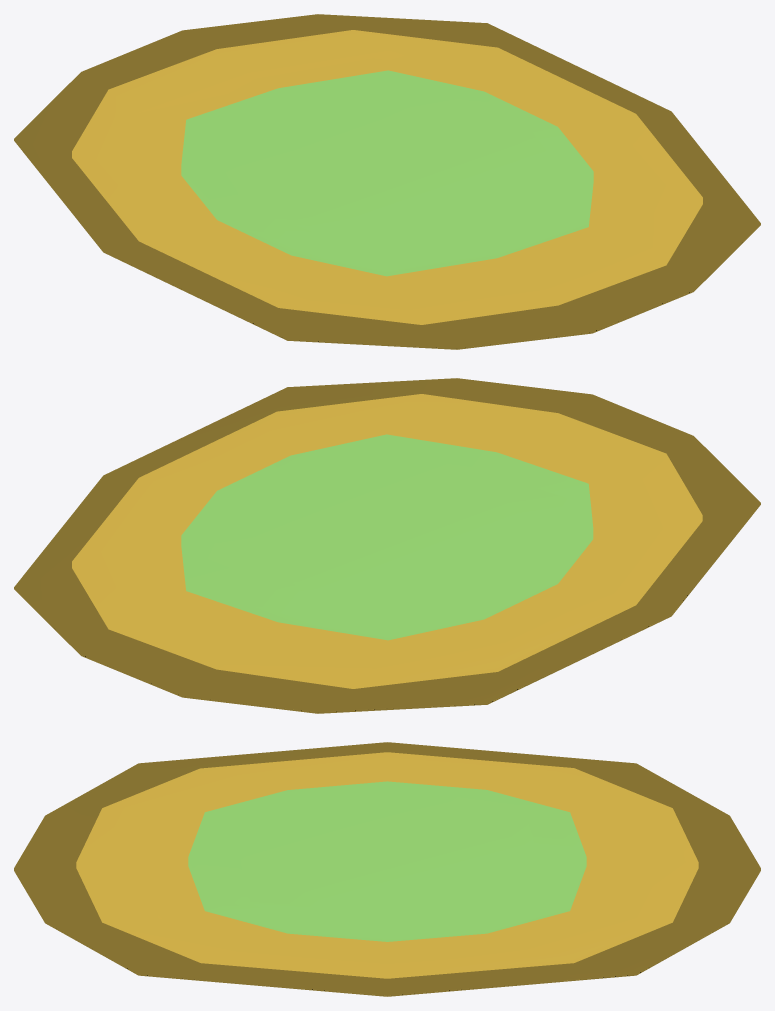
The model's file is Island.glb.
3 views of the same model, one above another, from view 1: azimuth 30°, elevation 25°; view 2: azimuth 150°, elevation 25°; view 3: azimuth 270°, elevation 25° (orthographic). The views are drawn at different scales.
Visible parts, largest first — view 1: Cube; view 2: Cube; view 3: Cube.
Part boxes in pixels (x1,y1,x2,y2): Cube: (14,14,760,349); Cube: (14,378,760,713); Cube: (14,742,760,996).
Size of the model in its own units: 480 by 16.48 by 600.
